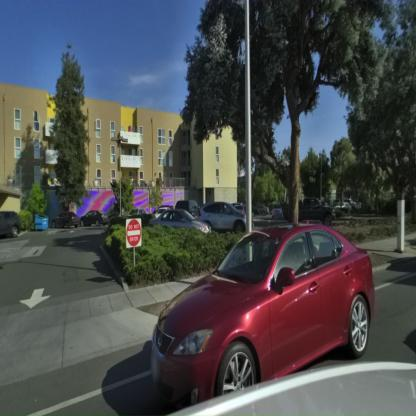car: (149, 222, 378, 403), (148, 208, 212, 234), (198, 202, 247, 232), (299, 198, 336, 226), (0, 210, 22, 241)
sign: (126, 220, 142, 249)
